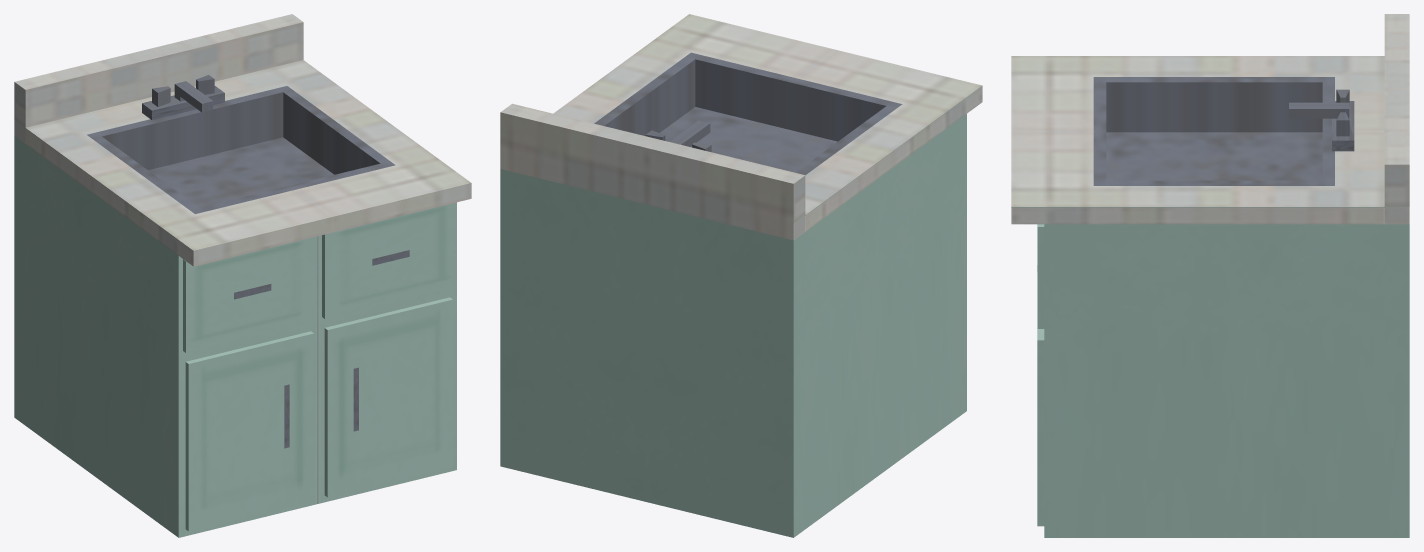
The model's file is Lavabo.fbx.
3 renders of one model, left to right at view 1: azimuth 30°, elevation 25°; view 2: azimuth 150°, elevation 25°; view 3: azimuth 270°, elevation 25°, orthographic. The views are drawn at different scales.
Visible parts, largest first — view 1: Cube.001; view 2: Cube.001; view 3: Cube.001.
Boxes of the visible parts, x1,y1,x2,y2 form: Cube.001: (14, 14, 471, 537); Cube.001: (500, 14, 982, 537); Cube.001: (1011, 14, 1409, 537).
Bounding box in the file's own units: 1491 × 1721 × 1663.
